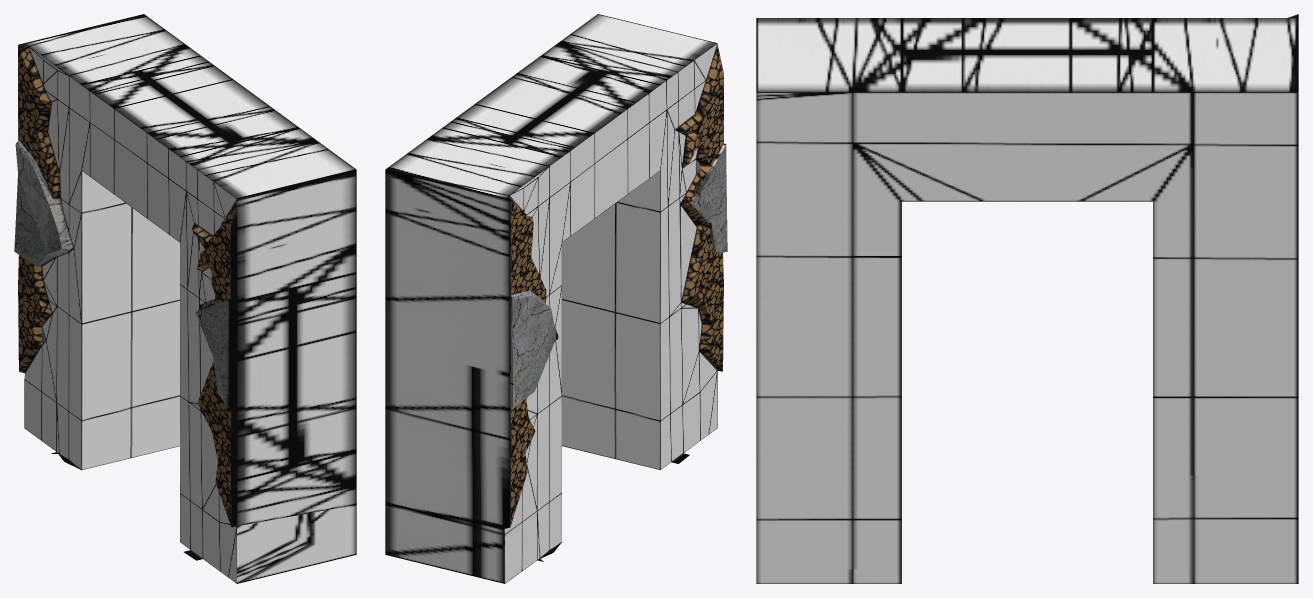
The model's file is EspacioPirateriaPuertaExteriorNI.gltf.
3 views of the same model, side by side, from view 1: azimuth 30°, elevation 25°; view 2: azimuth 150°, elevation 25°; view 3: azimuth 270°, elevation 25° (orthographic). The views are drawn at different scales.
Visible parts, largest first — view 1: Cubo.29; view 2: Cubo.29; view 3: Cubo.29.
Part boxes in pixels (bbox=[...]): Cubo.29: bbox=[14, 14, 356, 583]; Cubo.29: bbox=[385, 14, 727, 583]; Cubo.29: bbox=[756, 14, 1298, 583].
Bounding box in the file's own units: 0.7087 × 2 × 2.
1 material, 1 textured.
